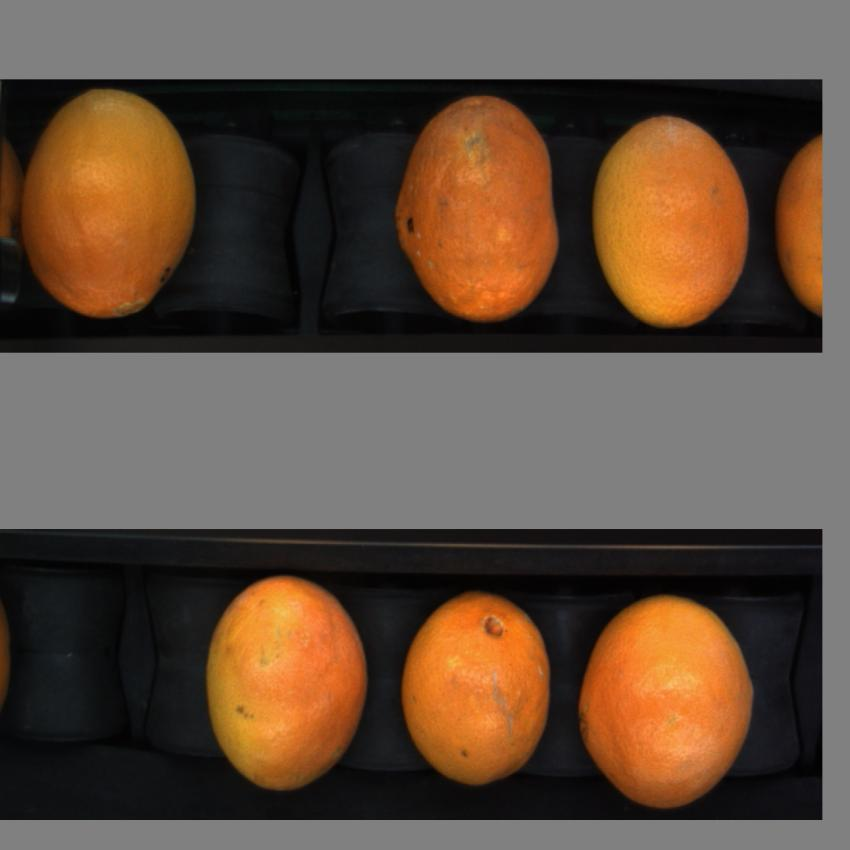Buen estado: (18, 85, 201, 332), (574, 590, 758, 820), (196, 564, 374, 800), (390, 580, 566, 798), (588, 108, 755, 335), (768, 124, 822, 328)
Mal estado: (390, 93, 566, 334)
